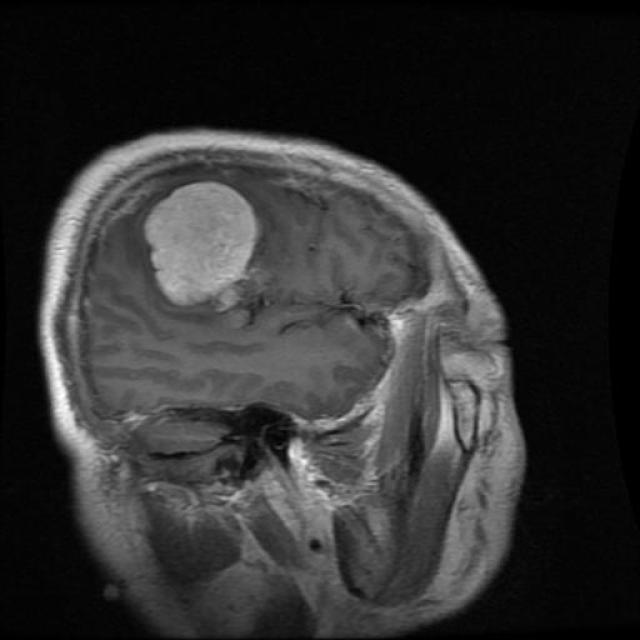meningioma: (144, 181, 255, 306)
